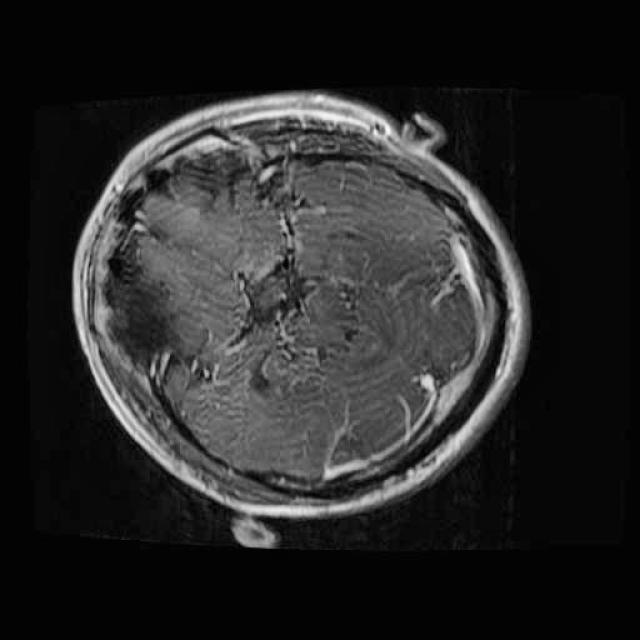Tumor: (229, 237, 319, 339)
